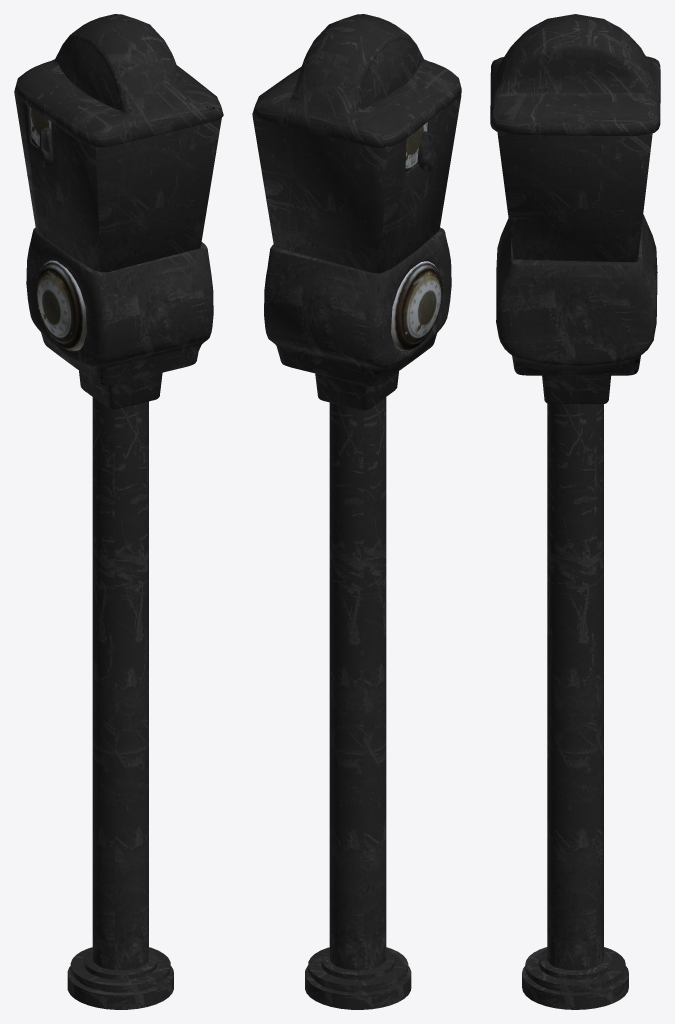
File: Parkimeter.fbx
The picture shows the model from 3 angles, left to right: view 1: azimuth 30°, elevation 25°; view 2: azimuth 150°, elevation 25°; view 3: azimuth 270°, elevation 25°; orthographic projection.
Parts seen in each view (by area): view 1: polymsh20; view 2: polymsh20; view 3: polymsh20.
Part boxes in pixels (x1=…): polymsh20: x1=14, y1=14, x2=223, y2=1009; polymsh20: x1=252, y1=14, x2=461, y2=1009; polymsh20: x1=490, y1=14, x2=660, y2=1009.
Bounding box in the file's own units: 0.2222 × 1.36 × 0.2172.
